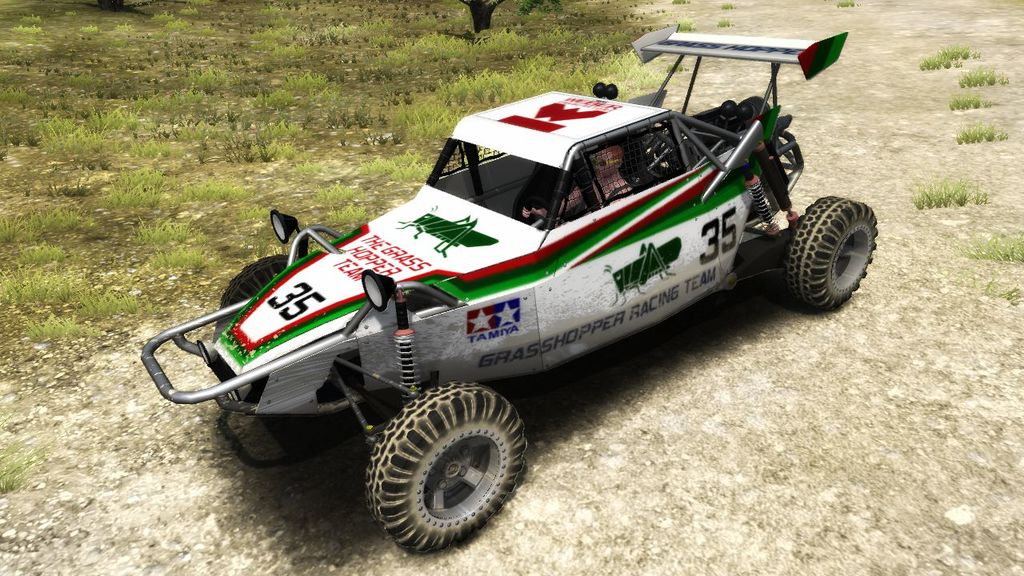person: (562, 140, 640, 218)
